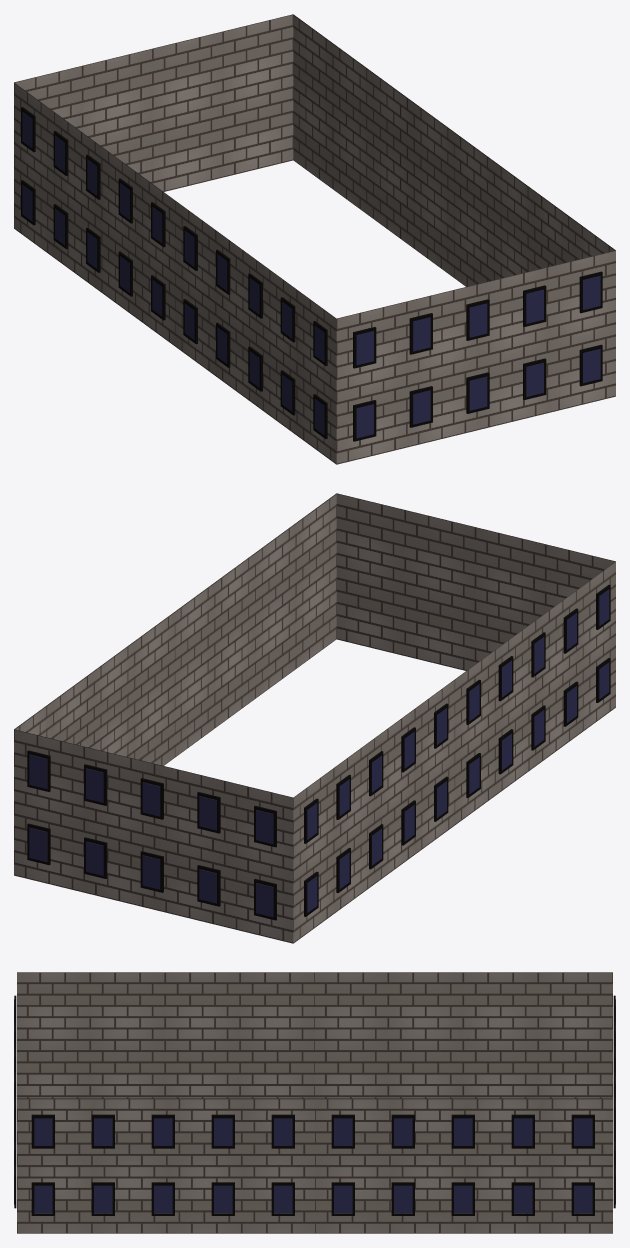
Rendered from HoussePart1.obj.
3 renders of one model, top to bottom at view 1: azimuth 30°, elevation 25°; view 2: azimuth 150°, elevation 25°; view 3: azimuth 270°, elevation 25°, orthographic. The views are drawn at different scales.
Visible parts, largest first — view 1: Plane.046_Plane.077; view 2: Plane.046_Plane.077; view 3: Plane.046_Plane.077.
Boxes of the visible parts, x1,y1,x2,y2 form: Plane.046_Plane.077: (14, 14, 615, 464); Plane.046_Plane.077: (14, 493, 615, 943); Plane.046_Plane.077: (14, 972, 615, 1233).
Size of the model in its own units: 2.04 by 1 by 4.04.
